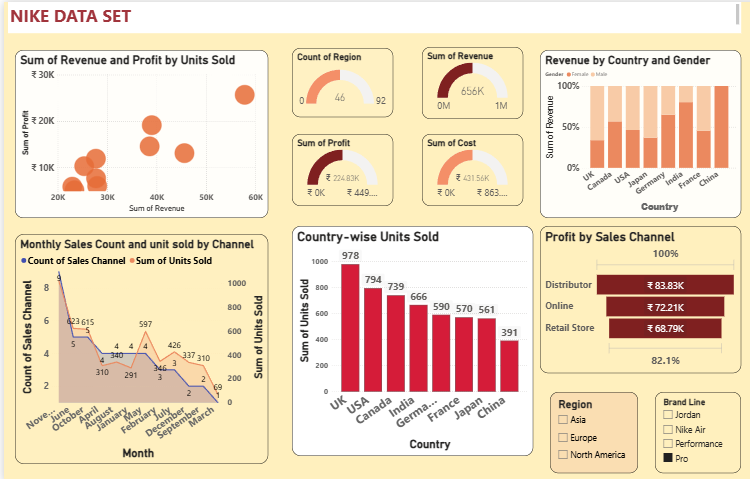

What the dashboard file says about the page in this screenshot:
{"tool":"powerbi","page":{"name":"DASHBOARD","canvas":[1900,1200],"ordinal":0},"visuals":[{"type":"textbox","box":[10,0,1832.5,77.5],"z":0},{"type":"areaChart","title":"Monthly Sales Count and unit sold by Channel","fields":{"Category":["Nike Sales Data.Month"],"Y":["CountNonNull(Nike Sales Data.Sales Channel)"],"Y2":["Sum(Nike Sales Data.Units Sold)"]},"box":[27.5,580,632.5,575],"z":1000},{"type":"columnChart","title":"Country-wise Units Sold","fields":{"Y":["Sum(Nike Sales Data.Units Sold)"],"Category":["Nike Sales Data.Country"]},"box":[720,560,602.5,575],"z":2000},{"type":"hundredPercentStackedColumnChart","title":" Revenue by Country and Gender","fields":{"Category":["Nike Sales Data.Country"],"Series":["Nike Sales Data.Gender"],"Y":["Sum(Nike Sales Data.Revenue)"]},"box":[1340,120,502.5,420],"z":4000},{"type":"funnel","title":" Profit by Sales Channel","fields":{"Category":["Nike Sales Data.Sales Channel"],"Y":["Sum(Nike Sales Data.Profit)"]},"box":[1340,560,502.5,367.5],"z":5000},{"type":"gauge","fields":{"Y":["CountNonNull(Nike Sales Data.Region)"]},"box":[720,115,252.5,172.5],"z":6000},{"type":"gauge","fields":{"Y":["Sum(Nike Sales Data.Profit)"]},"box":[720,330,252.5,180],"z":7000},{"type":"gauge","fields":{"Y":["Sum(Nike Sales Data.Cost)"]},"box":[1045,330,252.5,180],"z":8000},{"type":"gauge","fields":{"Y":["Sum(Nike Sales Data.Revenue)"]},"box":[1045,112.5,252.5,180],"z":9000},{"type":"slicer","fields":{"Values":["Nike Sales Data.Brand Line"]},"box":[1627.5,975,215,202.5],"z":10000},{"type":"slicer","fields":{"Values":["Nike Sales Data.Region"]},"box":[1365,975,220,202.5],"z":11000},{"type":"scatterChart","title":"Sum of Revenue and Profit by Units Sold","fields":{"Category":["Nike Sales Data.Units Sold"],"X":["Sum(Nike Sales Data.Revenue)"],"Y":["Sum(Nike Sales Data.Profit)"]},"box":[27.5,120,632.5,420],"z":12000}]}

Visuals, with their boxes in screenshot pixels (x1, y1, x2, y2), scaled from the page's 1900x1200 canvas onto the 750x479 screenshot:
textbox: [4, 0, 727, 31]
"Monthly Sales Count and unit sold by Channel" areaChart: [11, 232, 261, 461]
"Country-wise Units Sold" columnChart: [284, 224, 522, 453]
" Revenue by Country and Gender" hundredPercentStackedColumnChart: [529, 48, 727, 216]
" Profit by Sales Channel" funnel: [529, 224, 727, 370]
gauge - CountNonNull(Nike Sales Data.Region): [284, 46, 384, 115]
gauge - Sum(Nike Sales Data.Profit): [284, 132, 384, 204]
gauge - Sum(Nike Sales Data.Cost): [412, 132, 512, 204]
gauge - Sum(Nike Sales Data.Revenue): [412, 45, 512, 117]
slicer - Nike Sales Data.Brand Line: [642, 389, 727, 470]
slicer - Nike Sales Data.Region: [539, 389, 626, 470]
"Sum of Revenue and Profit by Units Sold" scatterChart: [11, 48, 261, 216]
